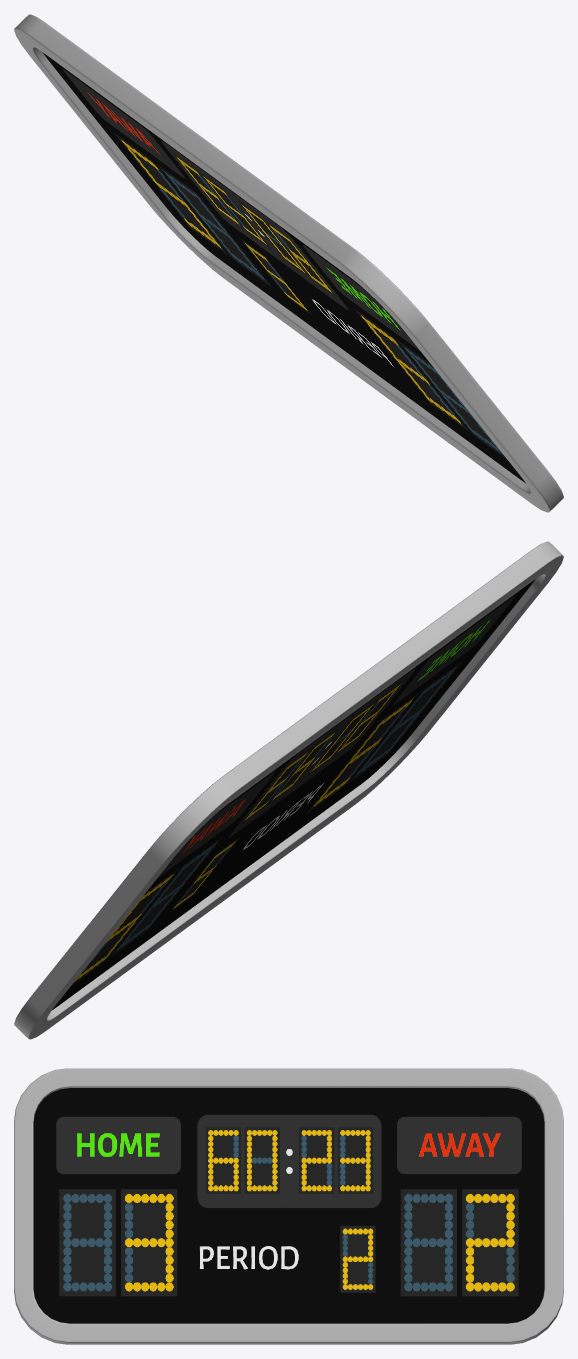
The model's file is Scoreboard.fbx.
The picture shows the model from 3 angles, top to bottom: view 1: azimuth 30°, elevation 25°; view 2: azimuth 150°, elevation 25°; view 3: azimuth 270°, elevation 25°; orthographic projection. The views are drawn at different scales.
Visible parts, largest first — view 1: Scoreboard; view 2: Scoreboard; view 3: Scoreboard.
Boxes of the visible parts, x1=… form: Scoreboard: x1=14, y1=14, x2=563, y2=512; Scoreboard: x1=14, y1=541, x2=563, y2=1039; Scoreboard: x1=14, y1=1068, x2=563, y2=1344.
Size of the model in its own units: 0.1509 by 0.2077 by 0.4846.
